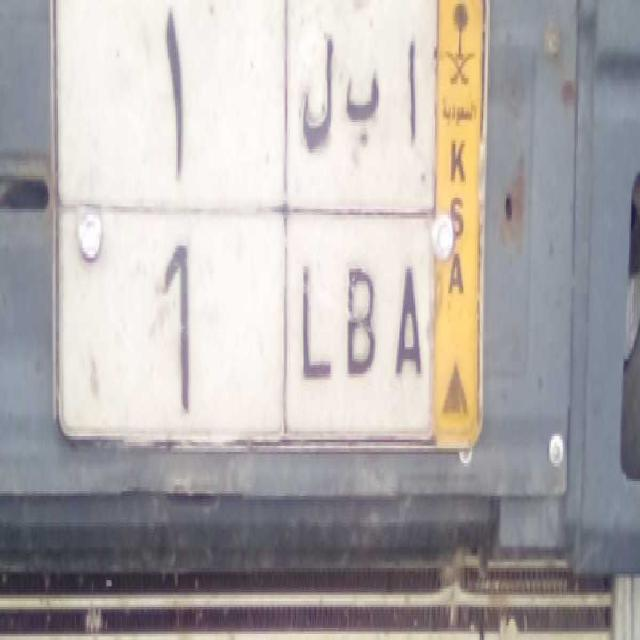license_plate: (54, 197, 437, 450)
